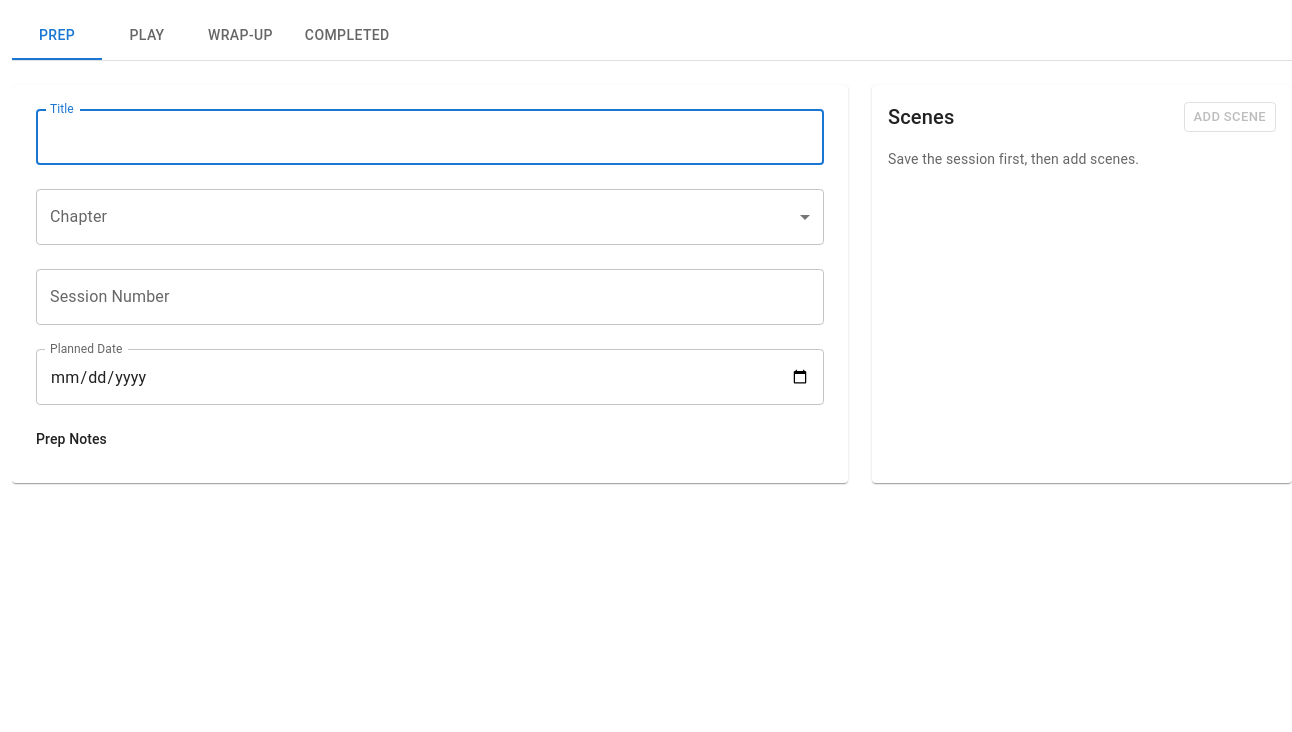
Test: SessionEditorPage › shows Play mode layout when switching to Play tab
Step 1. Click the tab "Play" → click(147, 36), box left=102, top=12, right=192, bottom=60
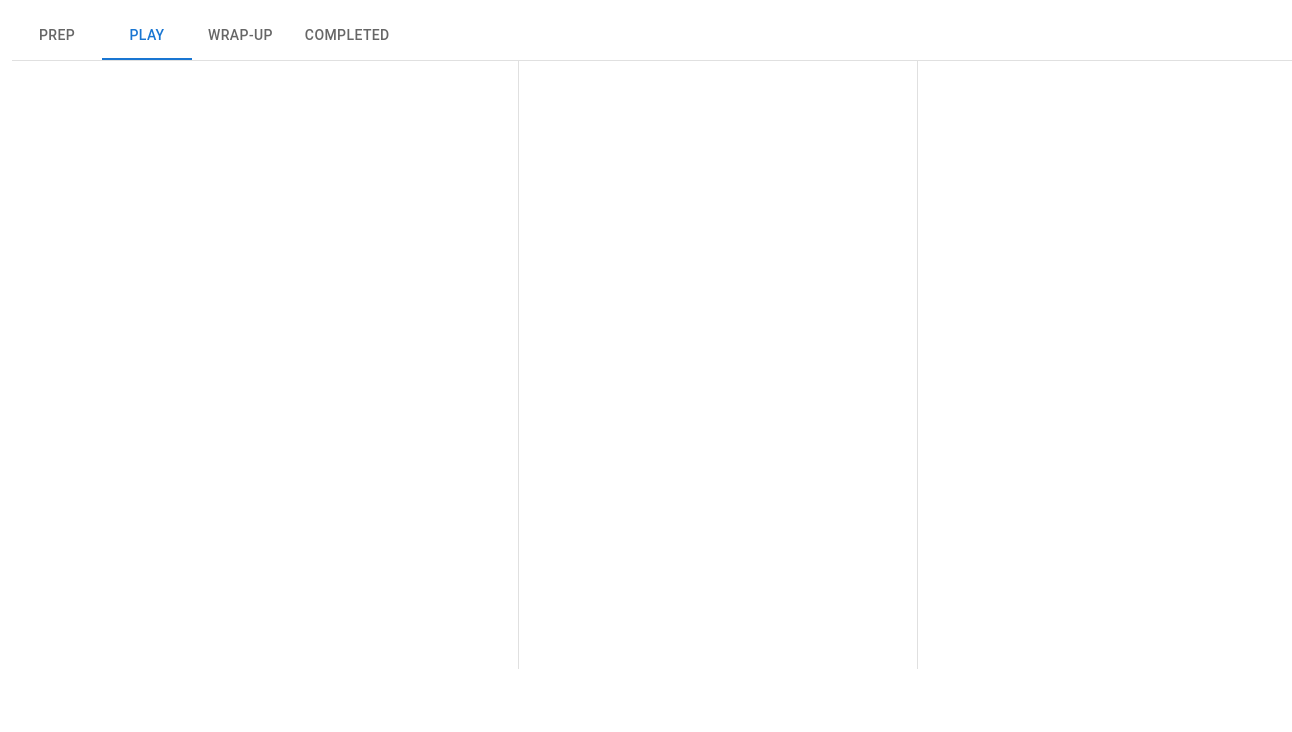
Result: the label labelled "Title" is gone
